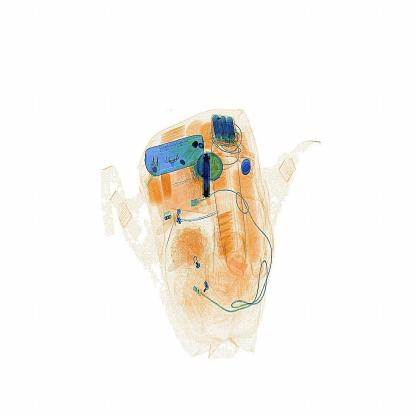scissors: (196, 146, 221, 213)
